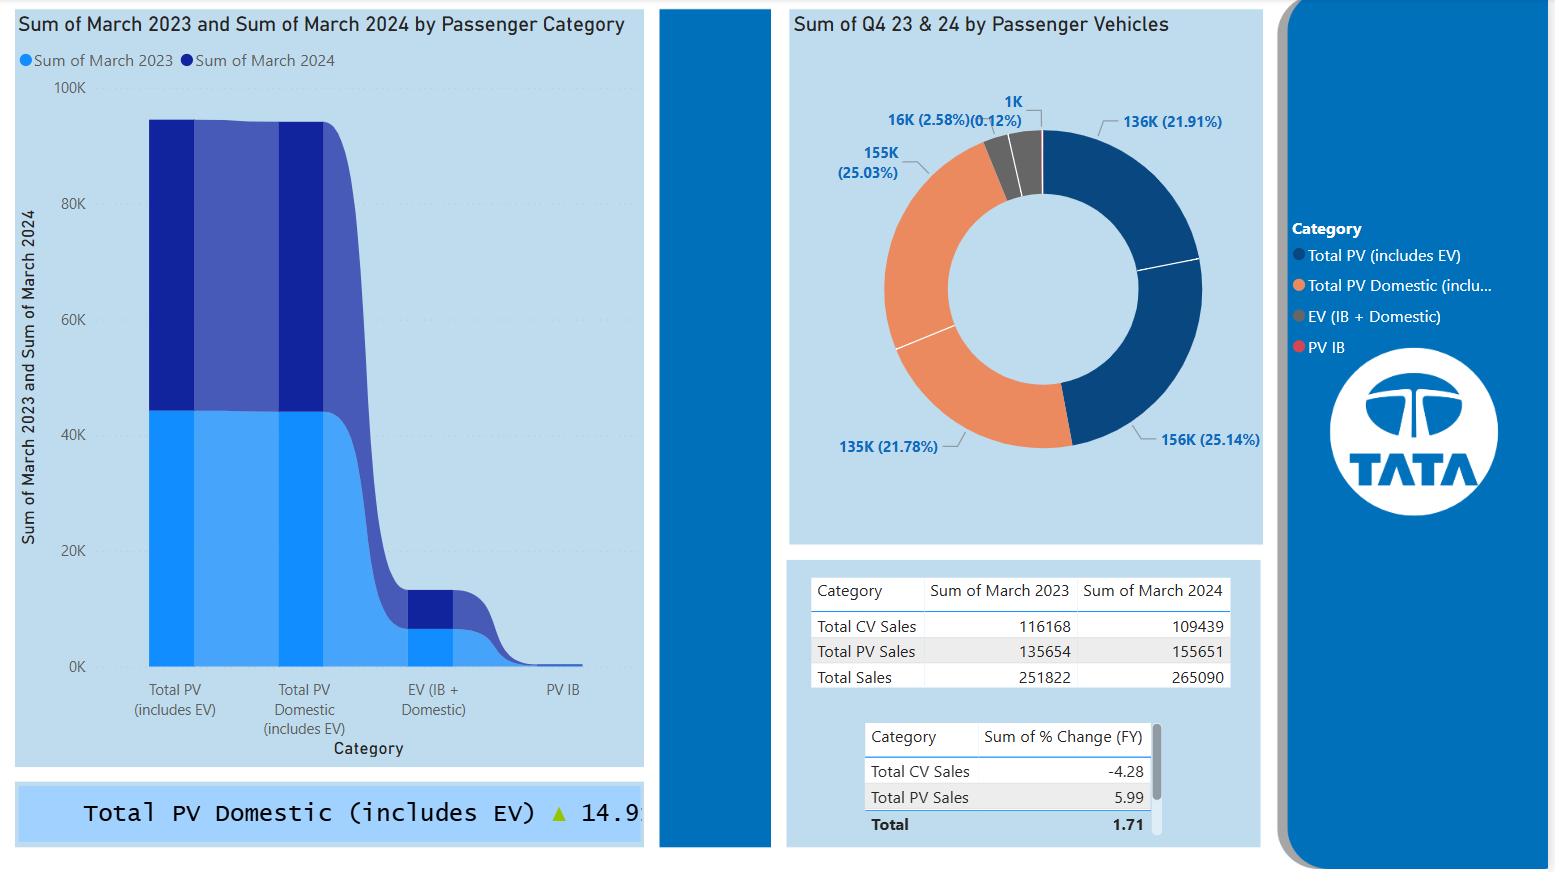

Layout of this report page (visuals, bound fields, positions):
{"tool":"powerbi","page":{"name":"Page 2","canvas":[1280,720],"ordinal":1},"visuals":[{"type":"ScrollingTextVisual1448795304508","fields":{"Category":["Passenger Vehicles.Category"],"Measure Deviation":["Sum(Passenger Vehicles.% Change (QoQ))"]},"box":[15.1,643.5,522.4,56],"z":0},{"type":"donutChart","title":"Sum of Q4 23 & 24 by Passenger Vehicles","fields":{"Category":["Passenger Vehicles.Category"],"Y":["Sum(Passenger Vehicles.Q4 FY23)","Sum(Passenger Vehicles.Q4 FY24)"]},"box":[654.1,10.6,596.6,437.6],"z":1000},{"type":"tableEx","fields":{"Values":["Total Sales Overview.Category","Sum(Total Sales Overview.March 2023)","Sum(Total Sales Overview.March 2024)"]},"box":[667.8,472.4,377,106],"z":2000},{"type":"tableEx","fields":{"Values":["Total Sales Overview.Category","Sum(Total Sales Overview.% Change (FY))"]},"box":[711.7,592.1,255.9,103],"z":3000},{"type":"ribbonChart","title":"Sum of March 2023 and Sum of March 2024 by  Passenger Category","fields":{"Category":["Passenger Vehicles.Category"],"Y":["Sum(Passenger Vehicles.March 2023)","Sum(Passenger Vehicles.March 2024)"]},"box":[15.1,10.6,522.4,619.3],"z":4000}]}

Visuals, with their boxes in screenshot pixels (x1, y1, x2, y2), scaled from the page's 1280x720 canvas onto the 1555x872 screenshot:
ScrollingTextVisual1448795304508 - Passenger Vehicles.Category x Sum(Passenger Vehicles.% Change (QoQ)): box(18, 779, 653, 847)
"Sum of Q4 23 & 24 by Passenger Vehicles" donutChart: box(795, 13, 1519, 543)
tableEx - Total Sales Overview.Category x Sum(Total Sales Overview.March 2023): box(811, 572, 1269, 701)
tableEx - Total Sales Overview.Category x Sum(Total Sales Overview.% Change (FY)): box(865, 717, 1175, 842)
"Sum of March 2023 and Sum of March 2024 by  Passenger Category" ribbonChart: box(18, 13, 653, 763)
